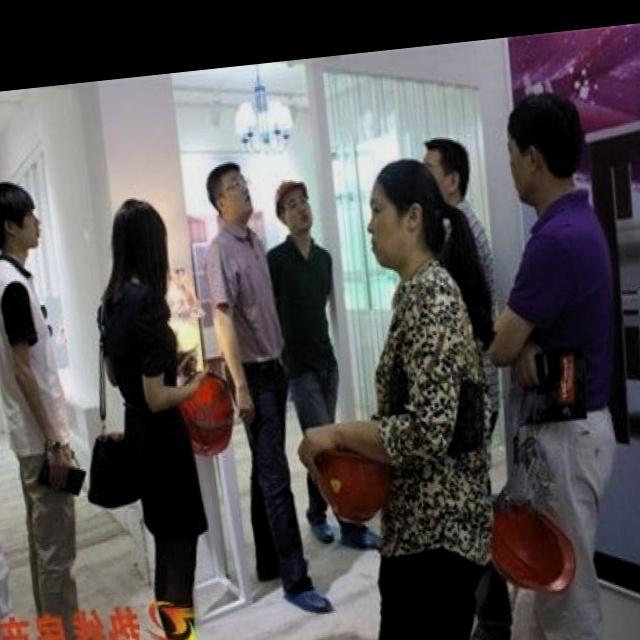Sin_Casco_Mascarrilla: (501, 89, 589, 206), (0, 177, 47, 261)
